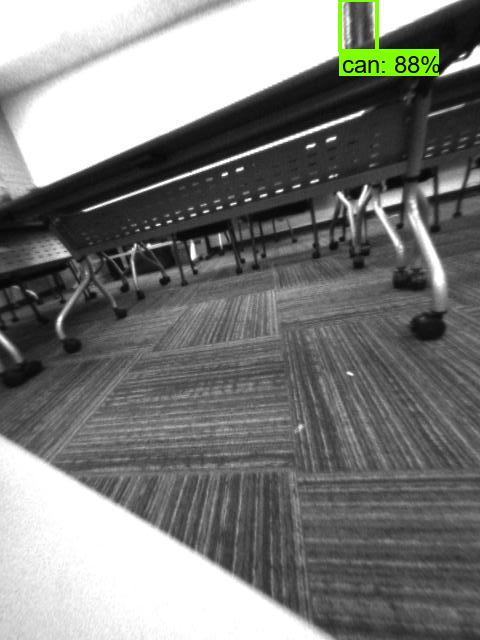can: (337, 1, 382, 56)
